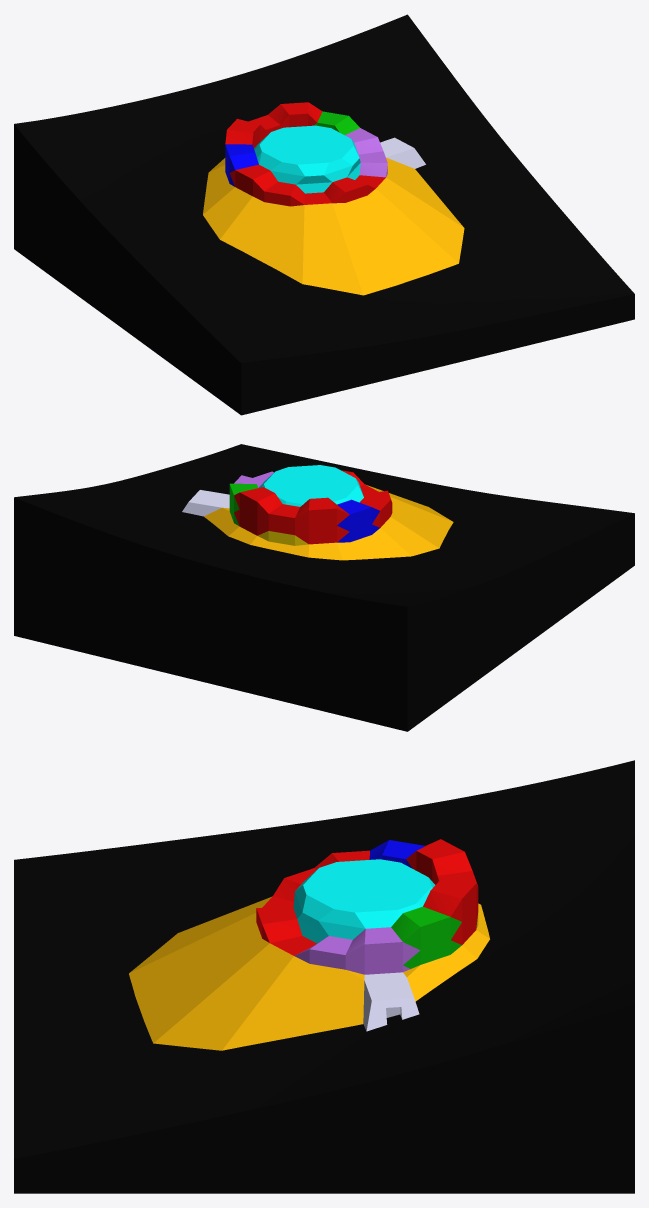
3 views of the same model, one above another, from view 1: azimuth 30°, elevation 25°; view 2: azimuth 150°, elevation 25°; view 3: azimuth 270°, elevation 25° (orthographic). The views are drawn at different scales.
Visible parts, largest first — view 1: 辅助, 外膜, 居住, 内膜, 医疗, 交通, 门厅, 卫生间; view 2: 辅助, 外膜, 居住, 内膜, 交通, 门厅, 卫生间, 厨房; view 3: 辅助, 外膜, 内膜, 居住, 医疗, 卫生间, 门厅, 交通.
Part boxes in pixels (box(x1,y1,x2,y2)): 辅助: box(14, 14, 634, 415); 外膜: box(203, 157, 464, 295); 居住: box(225, 102, 385, 206); 内膜: box(254, 125, 360, 193); 医疗: box(345, 128, 387, 177); 交通: box(225, 144, 258, 186); 门厅: box(380, 137, 425, 168); 卫生间: box(314, 111, 359, 135); 辅助: box(14, 444, 634, 731); 外膜: box(204, 484, 453, 560); 居住: box(234, 470, 392, 544); 内膜: box(259, 465, 363, 506); 交通: box(337, 499, 379, 542); 门厅: box(182, 490, 229, 516); 卫生间: box(229, 483, 257, 525); 厨房: box(257, 531, 308, 545); 辅助: box(14, 760, 634, 1193); 外膜: box(129, 896, 489, 1050); 内膜: box(293, 859, 435, 943); 居住: box(256, 839, 478, 955); 医疗: box(294, 927, 419, 974); 卫生间: box(391, 906, 461, 968); 门厅: box(363, 972, 419, 1031); 交通: box(369, 840, 424, 868).
Bounding box in the file's own units: 79.73 × 26.82 × 79.73.
